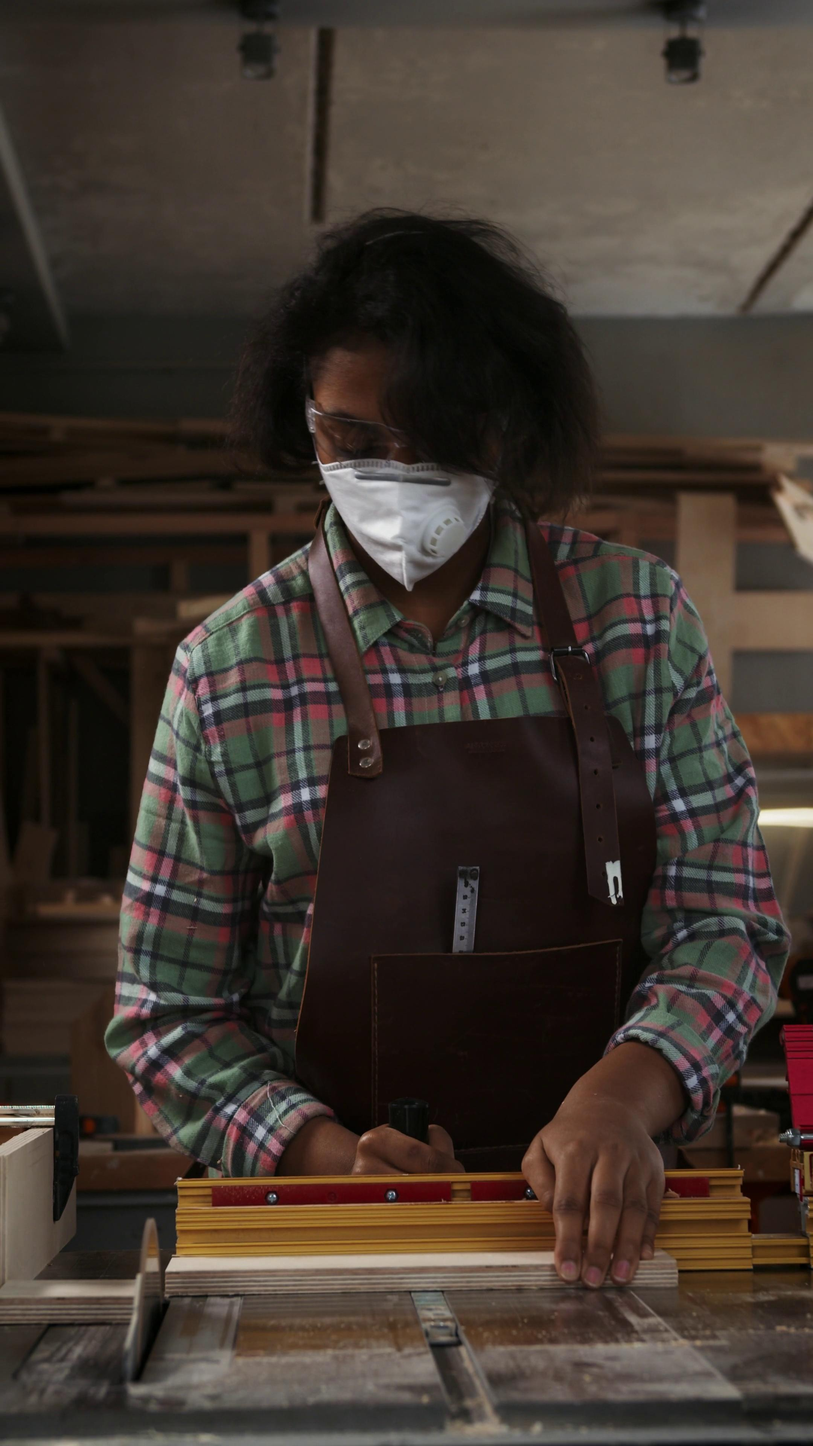mask: (315, 456, 501, 592)
person: (102, 206, 790, 1289)
